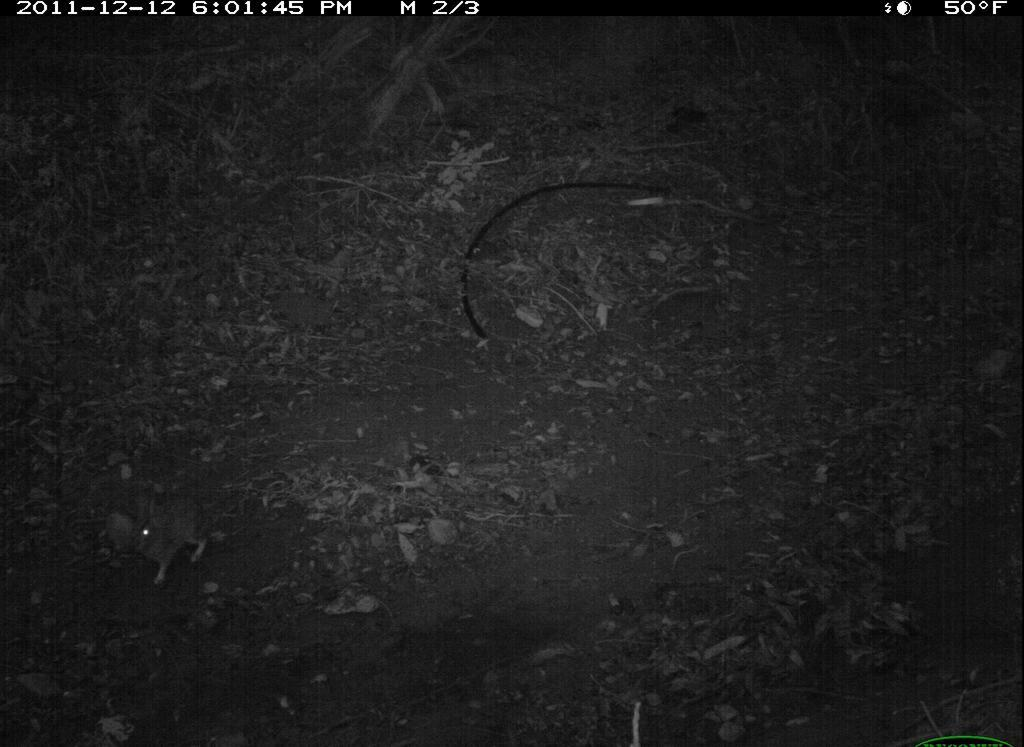rabbit: (95, 479, 219, 589)
